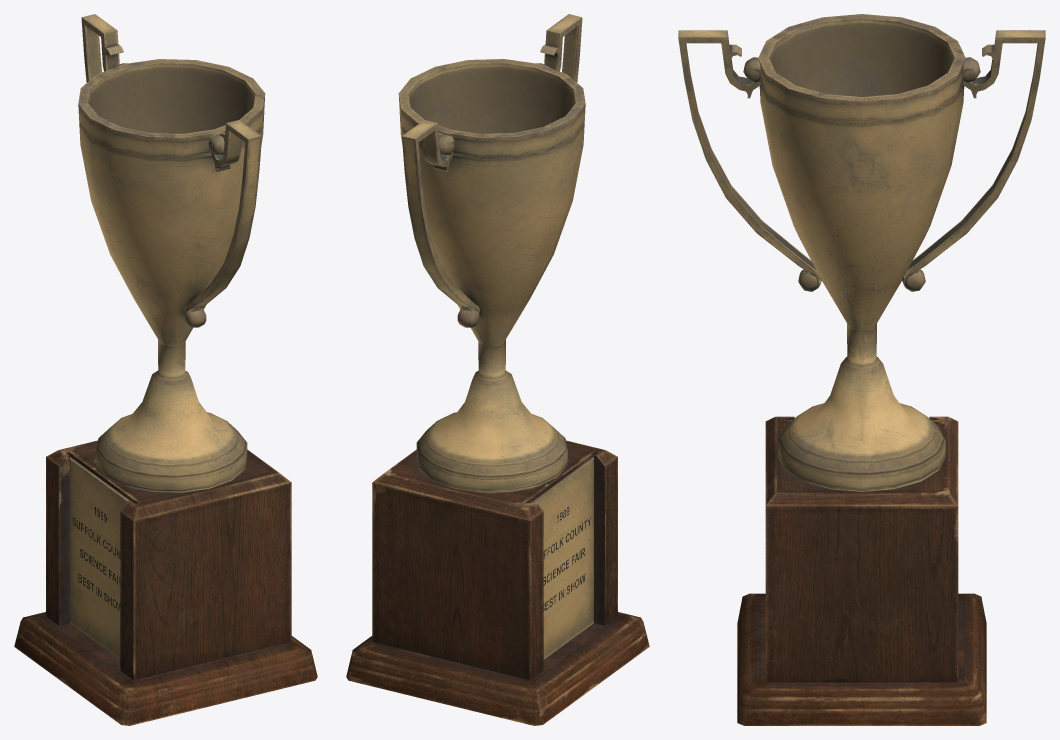
File: SM_Trophy_01a.fbx
The picture shows the model from 3 angles, left to right: view 1: azimuth 30°, elevation 25°; view 2: azimuth 150°, elevation 25°; view 3: azimuth 270°, elevation 25°; orthographic projection. The views are drawn at different scales.
Parts seen in each view (by area): view 1: SM_Trophy_01a_LOD0; view 2: SM_Trophy_01a_LOD0; view 3: SM_Trophy_01a_LOD0.
Part boxes in pixels (bbox=[...]): SM_Trophy_01a_LOD0: bbox=[14, 14, 317, 725]; SM_Trophy_01a_LOD0: bbox=[346, 14, 649, 725]; SM_Trophy_01a_LOD0: bbox=[678, 14, 1045, 725].
Bounding box in the file's own units: 23.48 × 34.52 × 66.58.
1 material, 1 textured.
